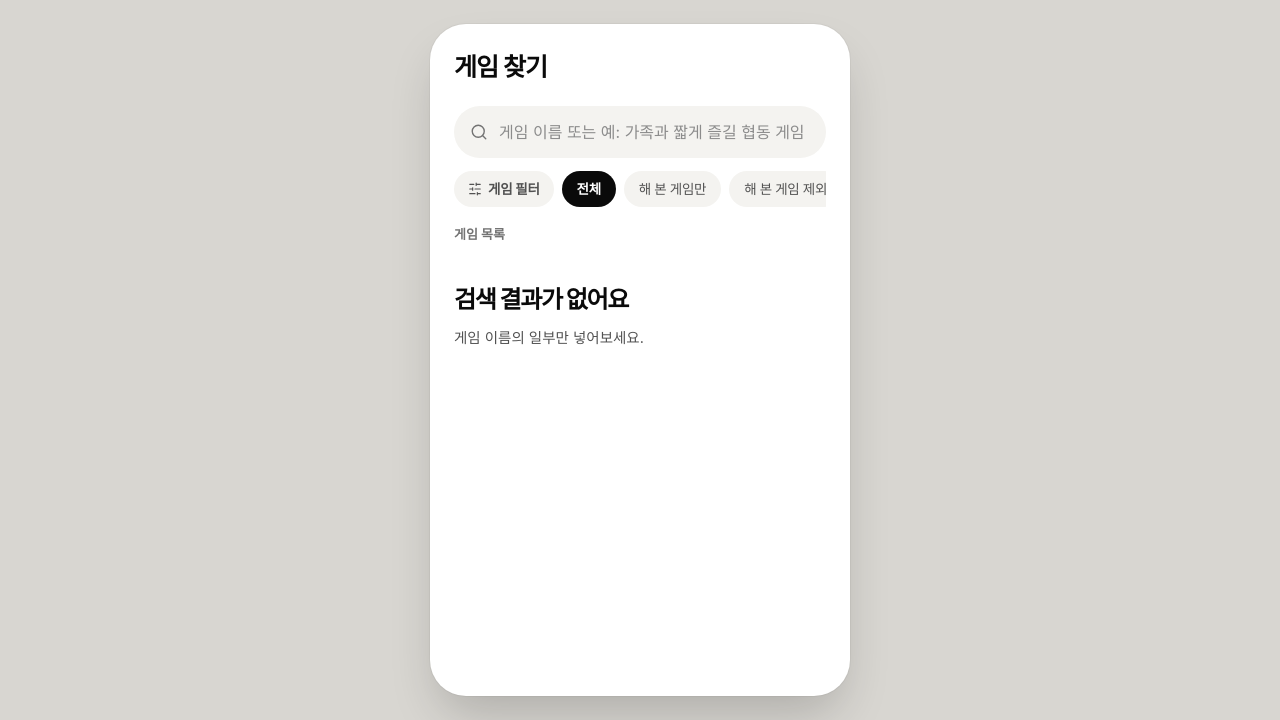
T2·T3 게임 조건 필터 조회 시점 › 필터 영역을 닫았다 다시 열어도 입력과 선택을 유지한다
Click the button "게임 필터".
click(504, 189)  # box [454,171,554,207]
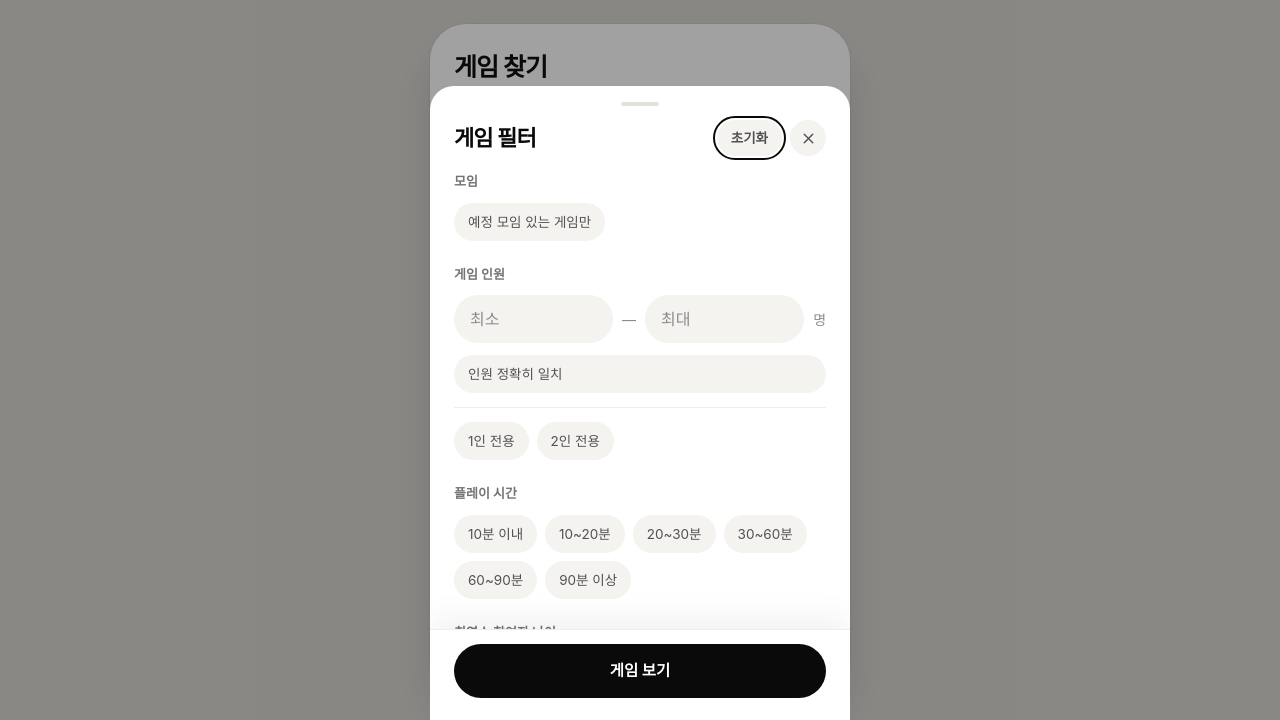
Type "2" into the number field labelled "최소".
click(534, 319); type("2")  # box [454,295,613,343]
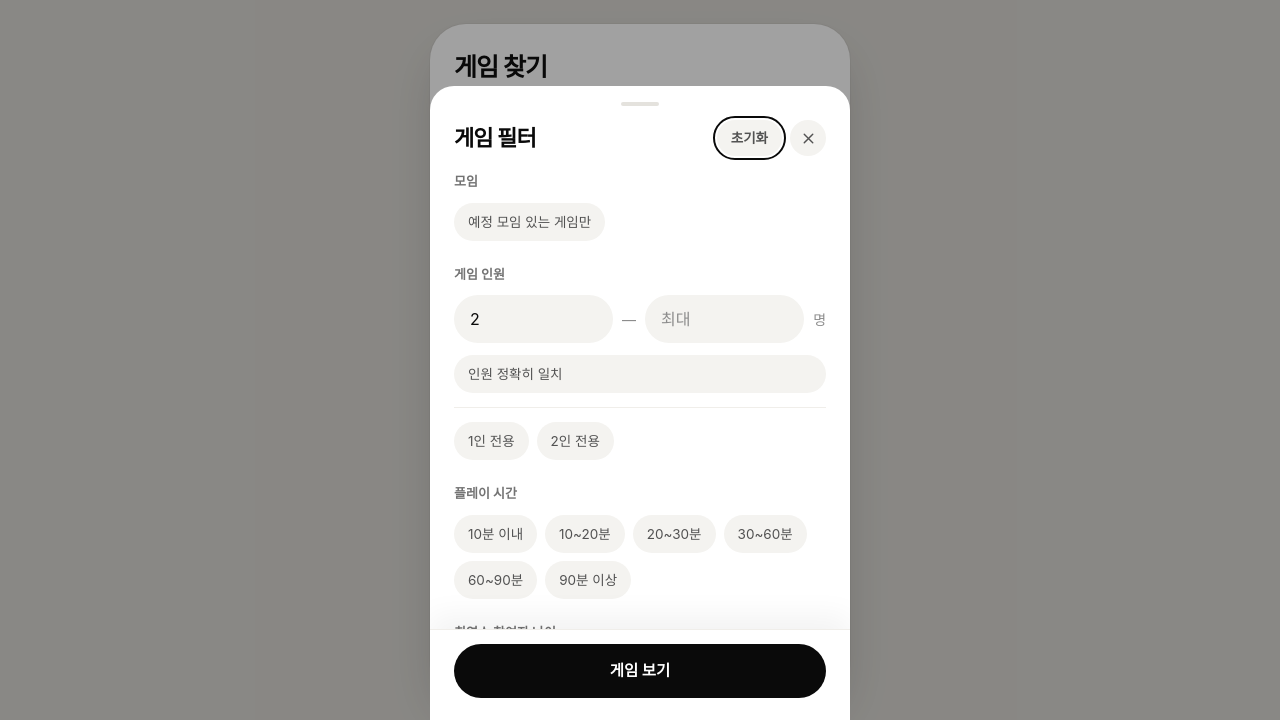
Click the checkbox labelled "90분 이상".
click(588, 580)  # box [545,561,631,599]
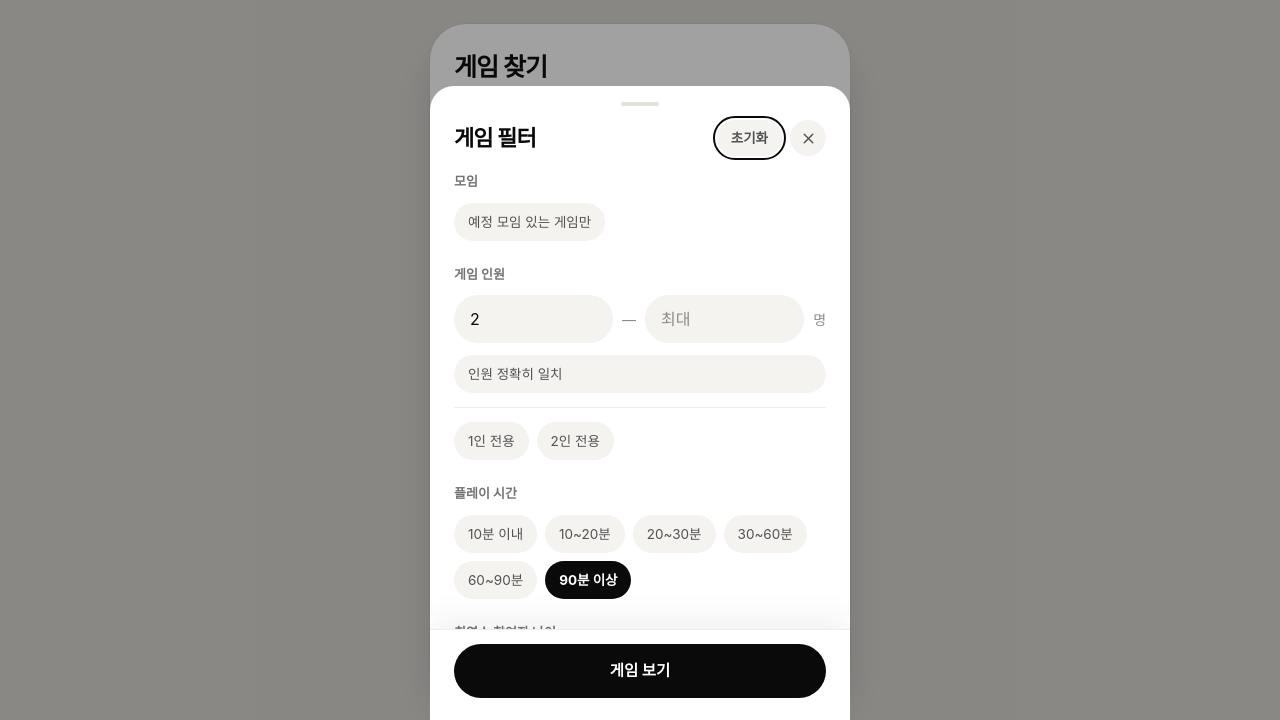
Click the button "게임 보기".
click(640, 671)  # box [454,644,826,698]
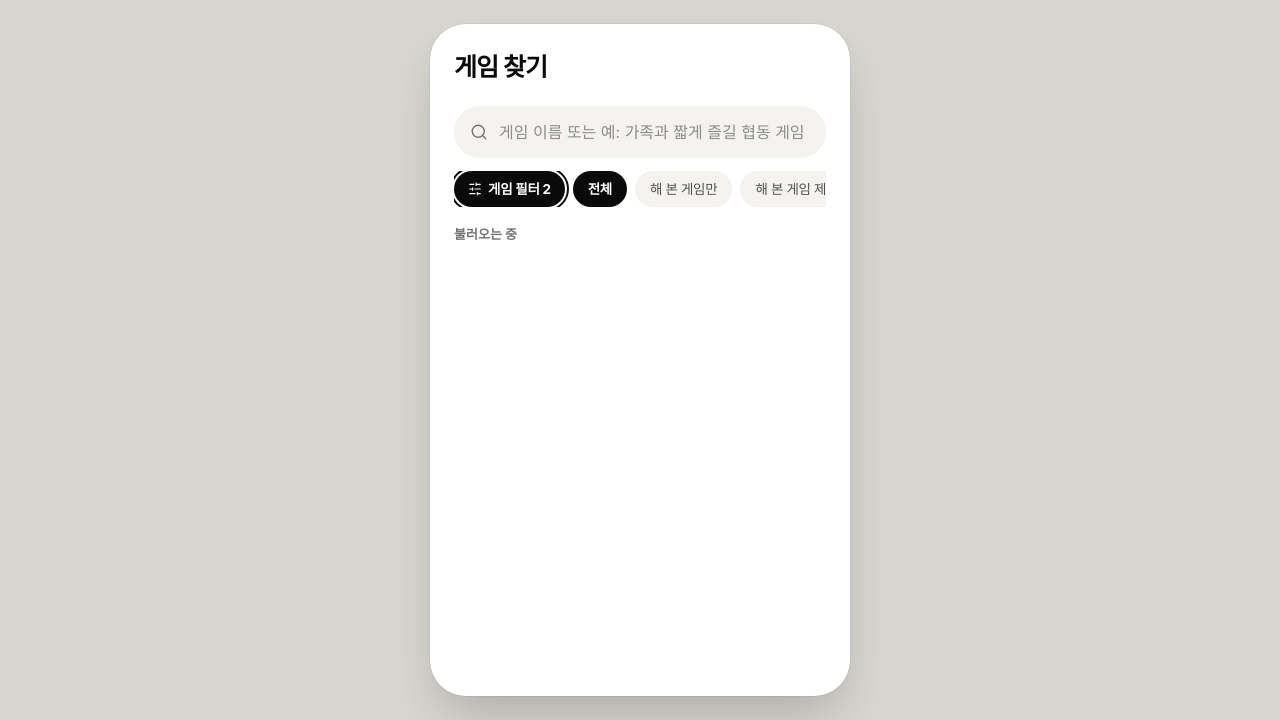
Now the number field labelled "최소" is gone
Click the button "게임 필터 2".
click(509, 189)  # box [454,171,565,207]
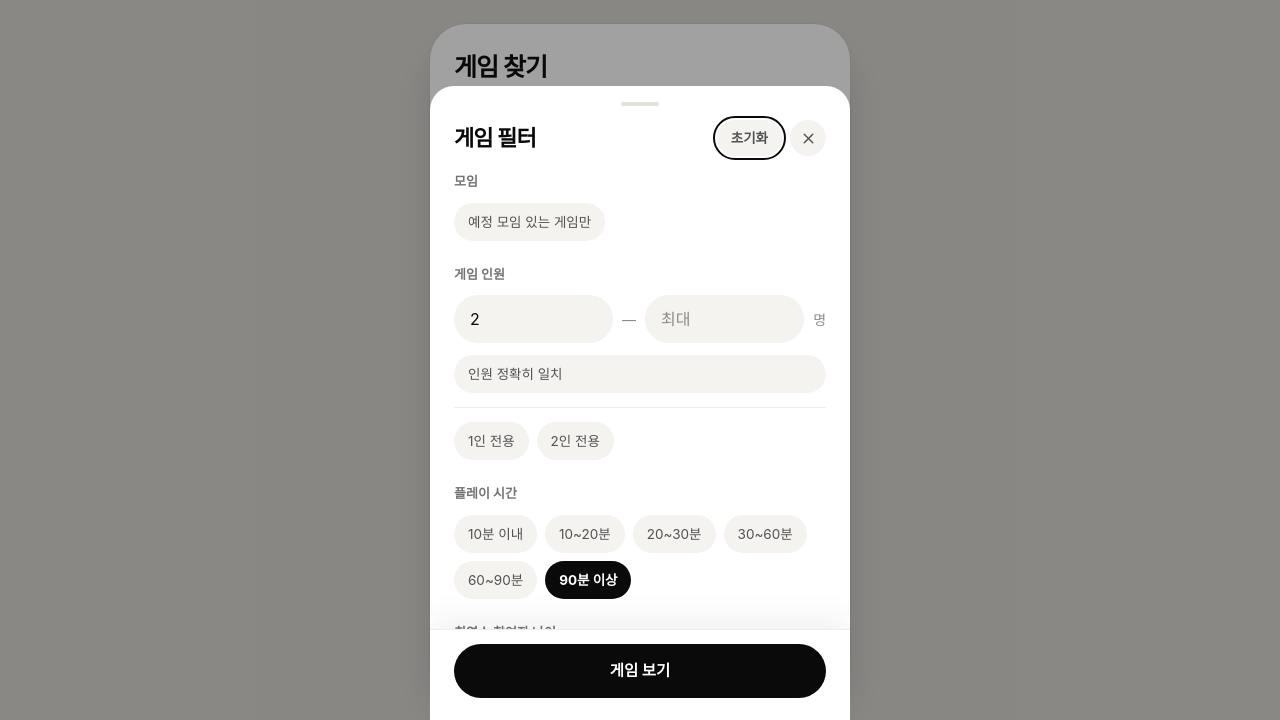
Now the number field named "최소" holds "2", box [454,295,613,343]
Now the checkbox labelled "90분 이상" is checked, box [545,561,631,599]
